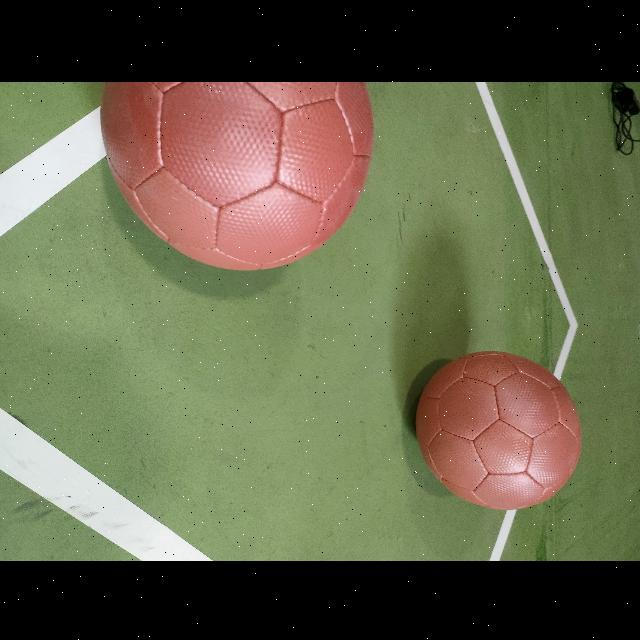R: (101, 80, 373, 268), (415, 350, 581, 508)
